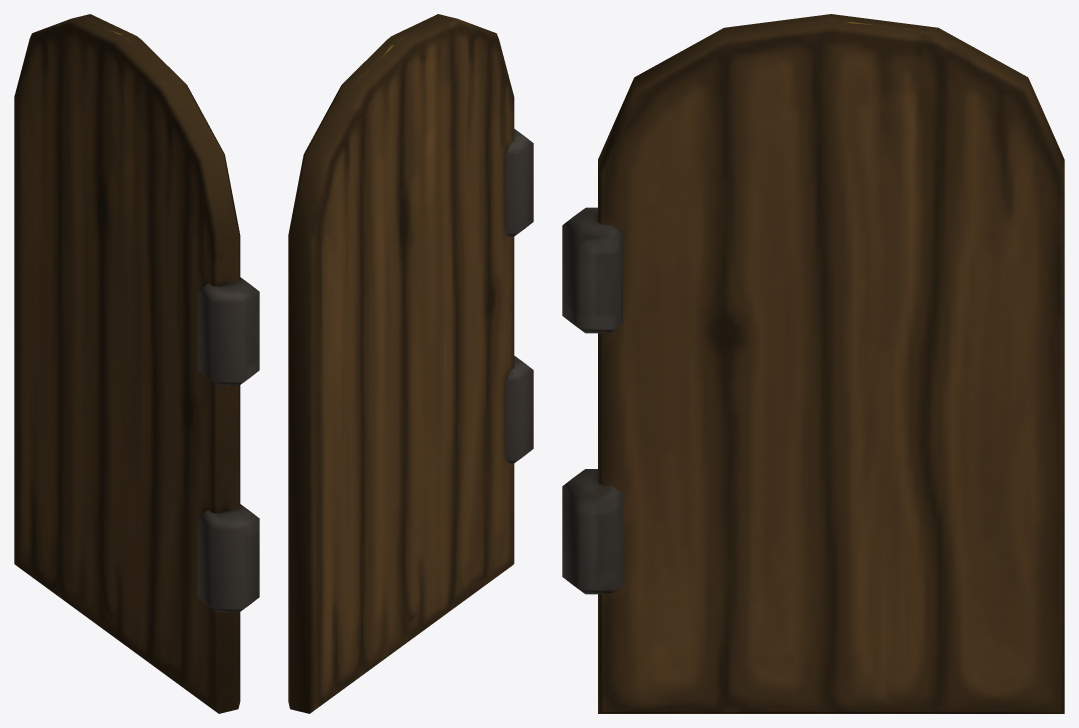
The model's file is puzzleDoor_model.glb.
3 renders of one model, left to right at view 1: azimuth 30°, elevation 25°; view 2: azimuth 150°, elevation 25°; view 3: azimuth 270°, elevation 25°, orthographic. The views are drawn at different scales.
Visible parts, largest first — view 1: puzzleDoor_t9; view 2: puzzleDoor_t9; view 3: puzzleDoor_t9.
Boxes of the visible parts, bbox=[...] form: puzzleDoor_t9: bbox=[14, 14, 259, 713]; puzzleDoor_t9: bbox=[288, 14, 533, 713]; puzzleDoor_t9: bbox=[562, 14, 1064, 713].
Size of what is drawn, in the model's own units: 0.1914 by 2.36 by 1.56.
Materials: 1 (1 with a texture image).
